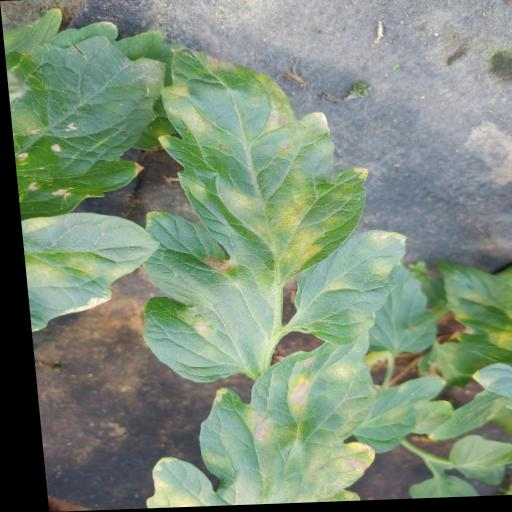Leaf Mold: (113, 43, 382, 385), (122, 331, 378, 509), (17, 209, 160, 330), (281, 229, 412, 350), (432, 260, 512, 393), (340, 375, 444, 453)
